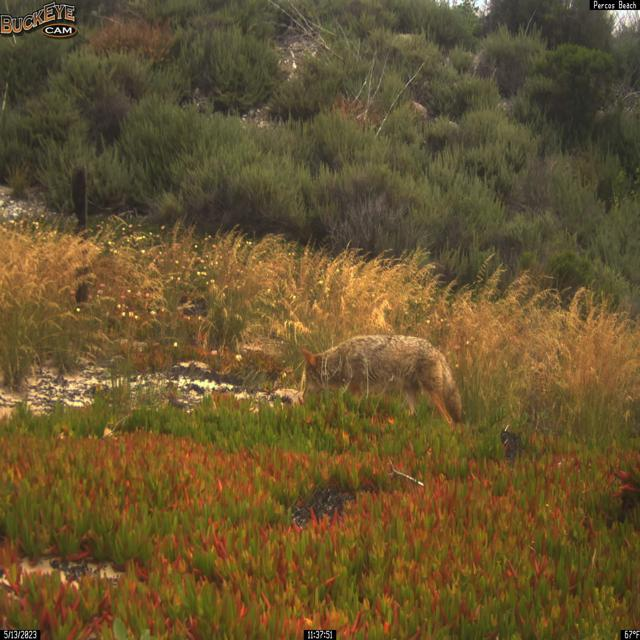coyote: (297, 332, 464, 428)
